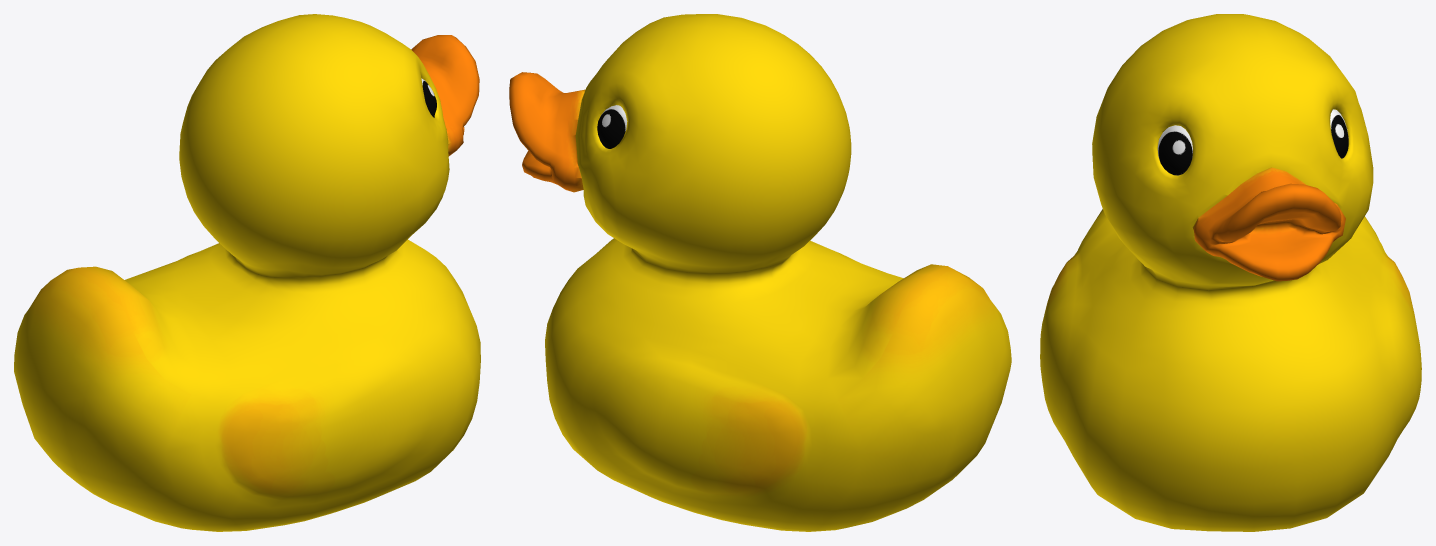
The model's file is duck.obj.
3 views of the same model, side by side, from view 1: azimuth 30°, elevation 25°; view 2: azimuth 150°, elevation 25°; view 3: azimuth 270°, elevation 25° (orthographic). The views are drawn at different scales.
Parts seen in each view (by area): view 1: LOD3spShape; view 2: LOD3spShape; view 3: LOD3spShape.
Part boxes in pixels (x1,y1,x2,y2): LOD3spShape: [14, 14, 480, 531]; LOD3spShape: [509, 14, 1011, 531]; LOD3spShape: [1040, 14, 1421, 531].
Size of the model in its own units: 1.65 by 1.54 by 1.15.
1 material, 1 textured.
